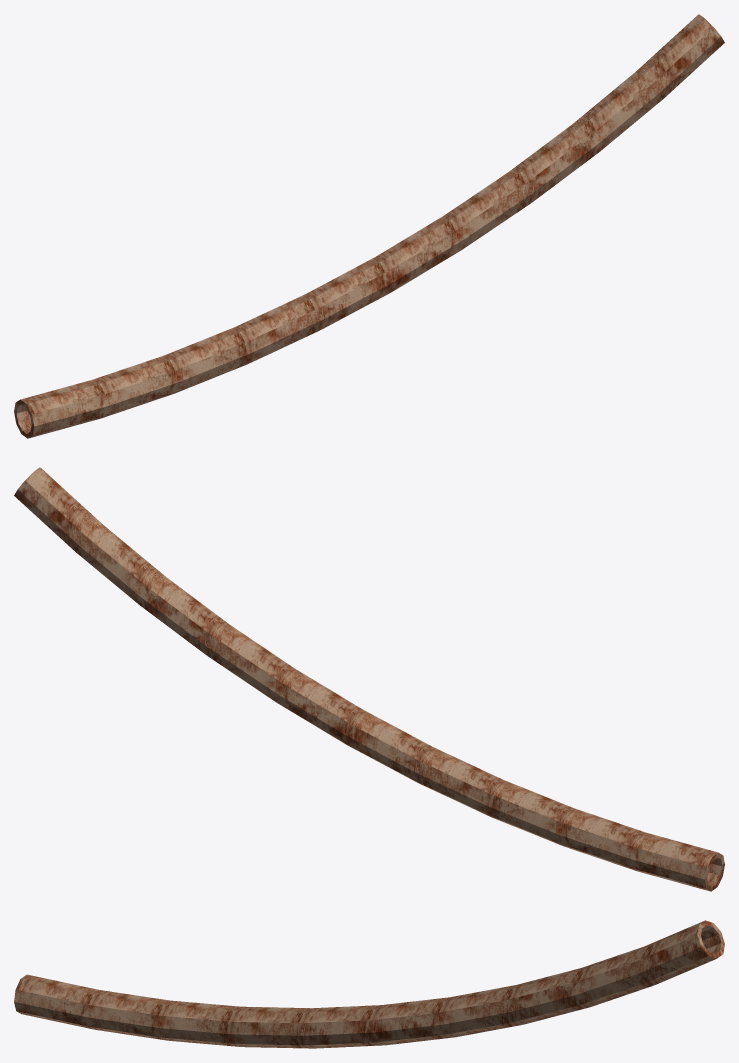
Rendered from pipe_3.glb.
The picture shows the model from 3 angles, top to bottom: view 1: azimuth 30°, elevation 25°; view 2: azimuth 150°, elevation 25°; view 3: azimuth 330°, elevation 25°; orthographic projection.
Parts seen in each view (by area): view 1: pipe_3; view 2: pipe_3; view 3: pipe_3.
Boxes of the visible parts, x1,y1,x2,y2 form: pipe_3: (14,14,724,438); pipe_3: (14,467,724,891); pipe_3: (14,920,724,1048).
Bounding box in the file's own units: 0.477 × 0.1666 × 0.024.
1 material, 1 textured.
